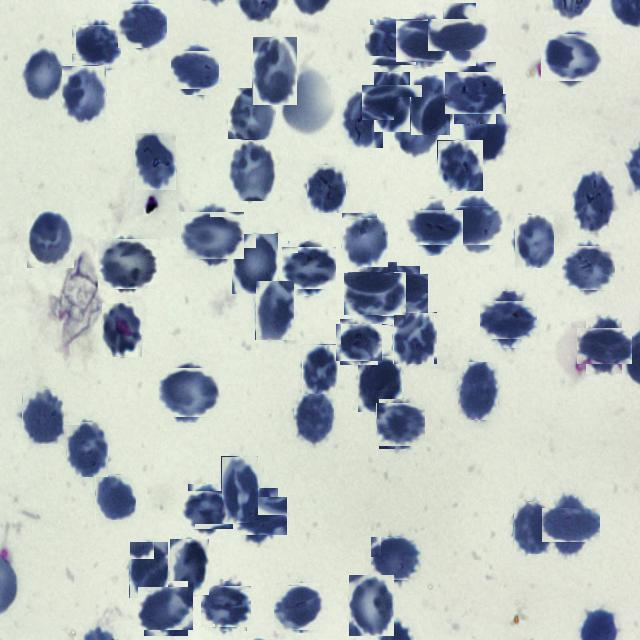red blood cell: (160, 364, 217, 420), (185, 208, 241, 264), (252, 36, 297, 105), (100, 236, 155, 291), (228, 140, 276, 202), (545, 30, 599, 84), (349, 266, 402, 320), (348, 574, 394, 636), (232, 233, 278, 294), (394, 97, 440, 158), (228, 88, 276, 146), (27, 209, 74, 268), (449, 67, 501, 119), (573, 172, 615, 234), (341, 212, 388, 267), (62, 66, 106, 123), (374, 270, 424, 320), (141, 584, 191, 634), (221, 456, 258, 523), (341, 89, 383, 148), (358, 356, 402, 412), (449, 200, 498, 250), (134, 132, 176, 190), (564, 243, 613, 292), (398, 16, 448, 64), (22, 46, 64, 102), (285, 244, 333, 293), (22, 388, 64, 444), (66, 421, 108, 477), (437, 140, 483, 191), (255, 280, 294, 340), (465, 105, 508, 159), (458, 362, 498, 420), (484, 296, 532, 344), (274, 584, 322, 632), (368, 78, 416, 126), (393, 312, 437, 364), (411, 77, 450, 135), (235, 492, 282, 540), (436, 11, 484, 58), (129, 541, 168, 598), (372, 535, 419, 582), (119, 2, 165, 50), (170, 539, 209, 595), (548, 502, 594, 549), (514, 214, 554, 268), (102, 303, 142, 357), (294, 391, 334, 444), (581, 323, 627, 369), (412, 204, 458, 250), (203, 583, 249, 629), (367, 22, 413, 68), (378, 402, 423, 448), (74, 22, 118, 68), (184, 488, 230, 532), (513, 501, 551, 554), (306, 164, 346, 213), (95, 474, 136, 520), (174, 48, 216, 92), (302, 344, 338, 394), (338, 321, 380, 363)
